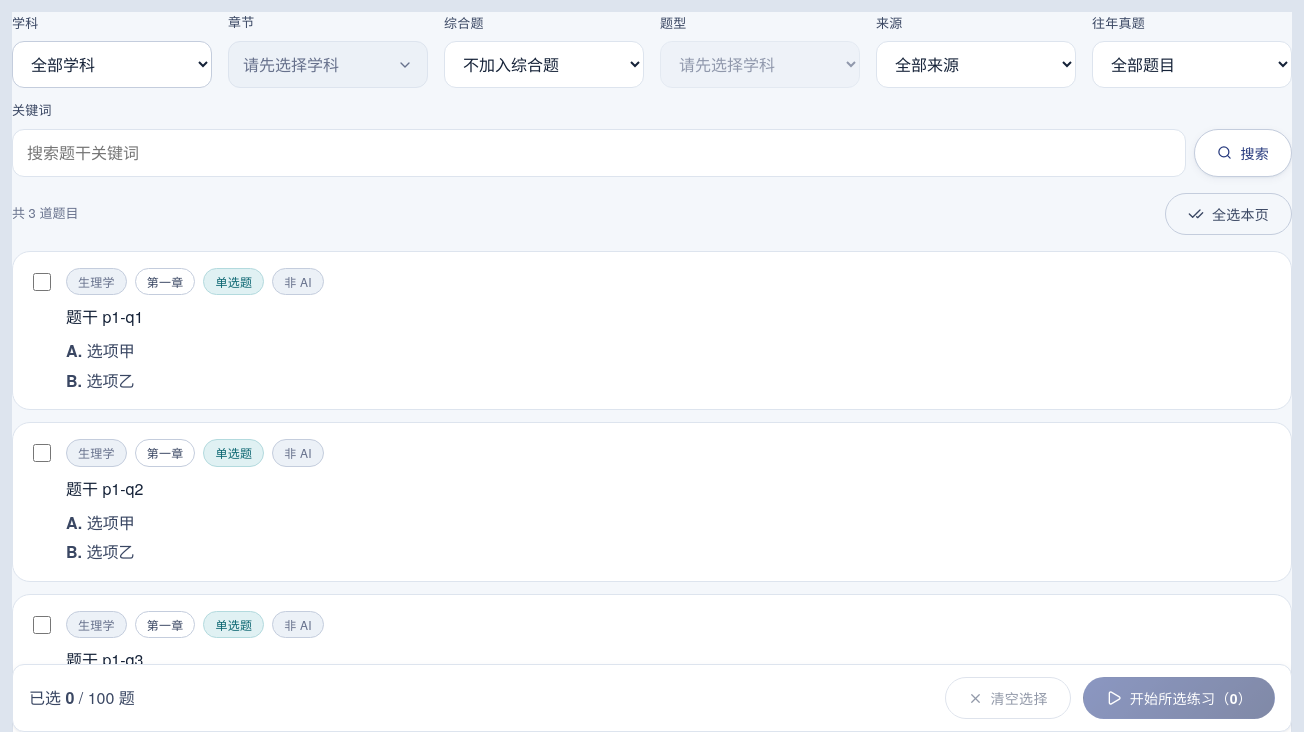
Test: QuizLibrary › selects and deselects every question on the current page
The width and height of the screenshot is (1304, 732).
What coordinates should you click on to do the following:
click the button "全选本页"
I would click on:
 (1228, 214)
Its box is x1=1165 y1=193 x2=1292 y2=235.
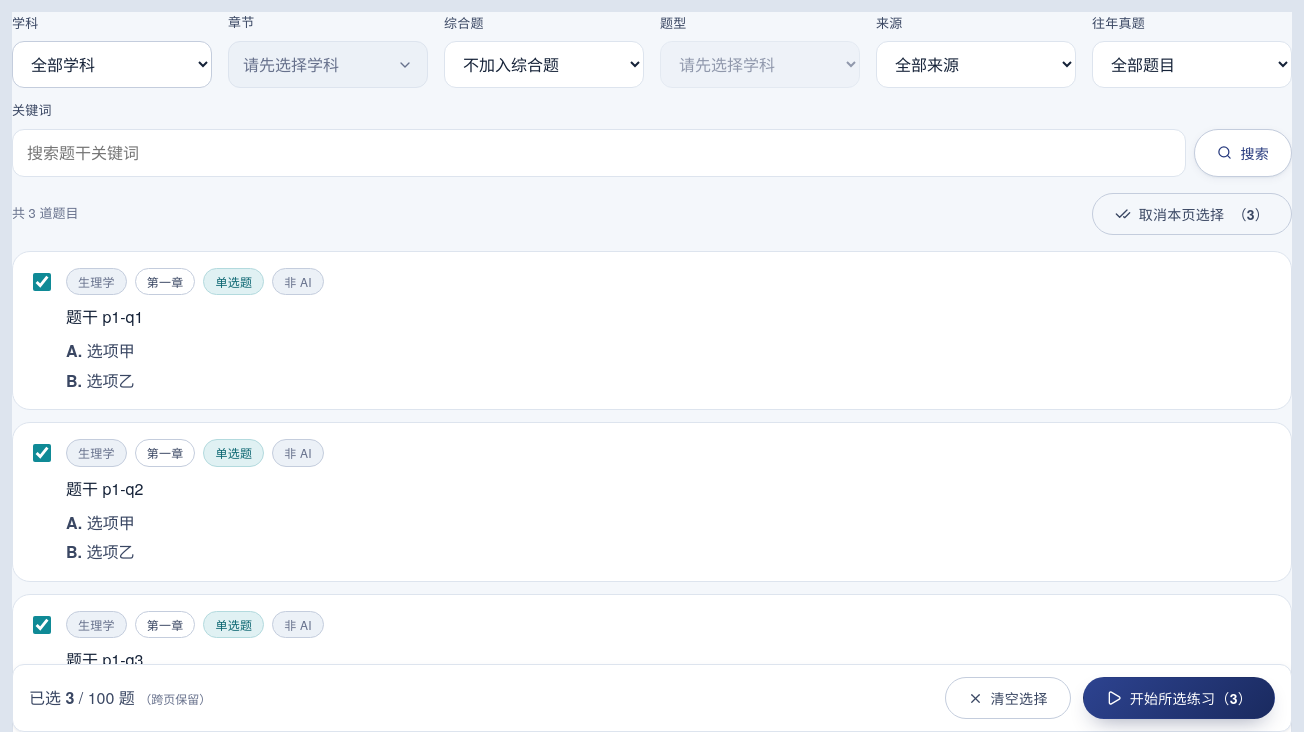
Expected: the message with class "selection-count" shows "3", x1=66 y1=686 x2=74 y2=709
Expected: the button "取消本页选择 （3）" is shown
What coordinates should you click on to do the following:
click the button "取消本页选择 （3）"
I would click on:
 (1192, 214)
Its box is x1=1092 y1=193 x2=1292 y2=235.
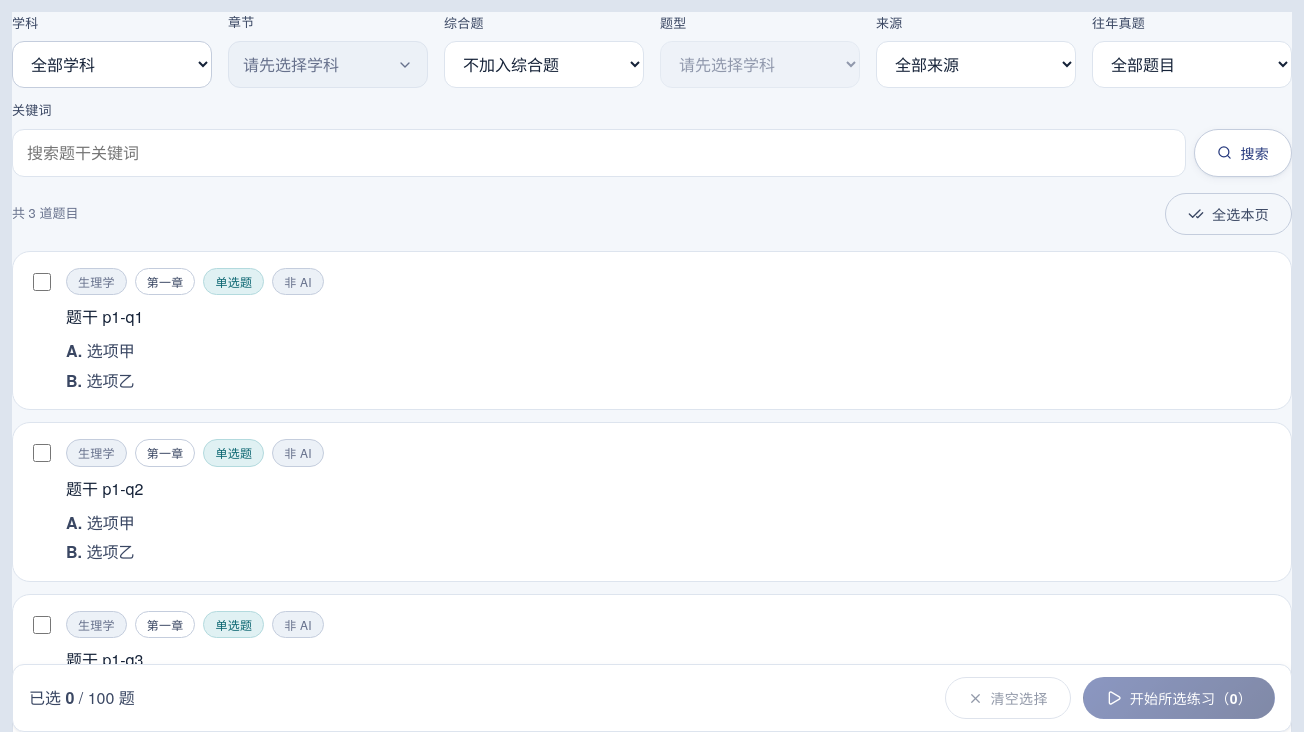
Expected: the message with class "selection-count" shows "0", x1=66 y1=686 x2=74 y2=709
Expected: the button "全选本页" is shown, x1=1165 y1=193 x2=1292 y2=235
